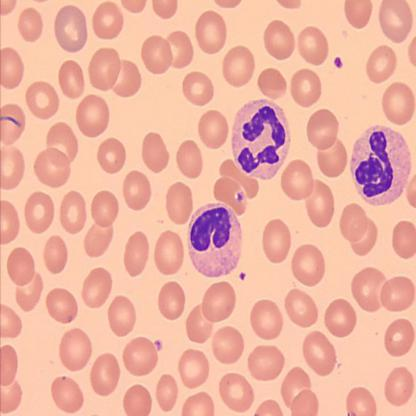Band Neutrophil: (348, 119, 414, 208), (229, 95, 293, 180), (185, 199, 244, 278)
